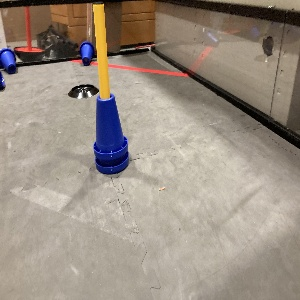Blue_2: (90, 90, 127, 174)
